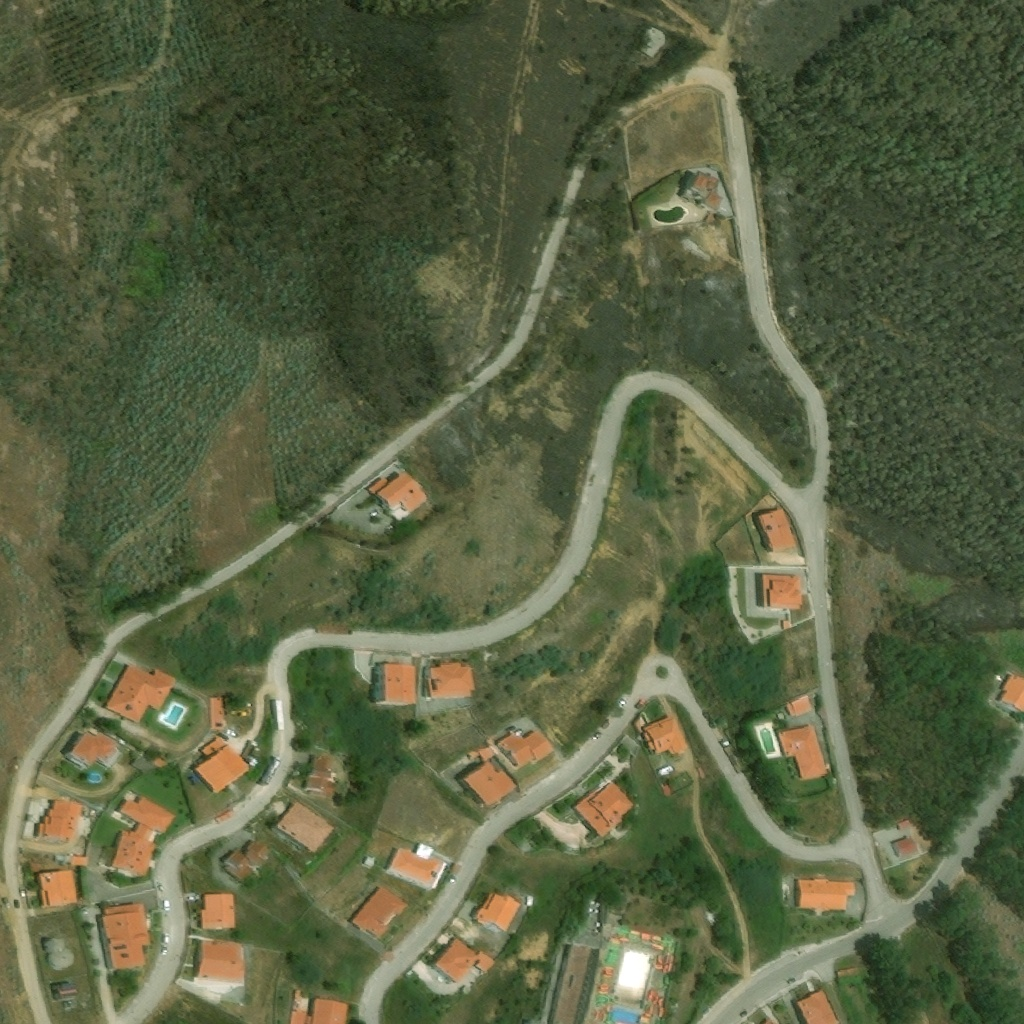0 no-damage: (540, 885, 677, 1023), (108, 797, 179, 877), (105, 663, 178, 725), (571, 777, 638, 837), (460, 742, 519, 807), (97, 902, 152, 971), (273, 800, 337, 856), (194, 736, 252, 797), (366, 470, 432, 521), (433, 937, 496, 984), (351, 888, 408, 939), (386, 842, 444, 892), (780, 724, 830, 779), (63, 726, 122, 771), (472, 888, 524, 935), (193, 941, 246, 985), (220, 839, 273, 883), (499, 730, 558, 769), (679, 166, 729, 212), (640, 714, 690, 757), (756, 507, 799, 553), (426, 662, 479, 699), (38, 800, 83, 843), (795, 880, 857, 911), (376, 663, 419, 706), (36, 868, 81, 909), (307, 754, 345, 798), (798, 988, 843, 1023), (762, 574, 803, 610), (291, 998, 350, 1023), (200, 893, 238, 929), (996, 673, 1023, 715), (638, 28, 672, 57), (47, 936, 74, 968), (787, 693, 814, 719), (211, 697, 228, 729), (893, 836, 918, 857), (70, 856, 88, 867), (663, 785, 673, 798), (528, 895, 534, 907), (785, 620, 792, 629)
